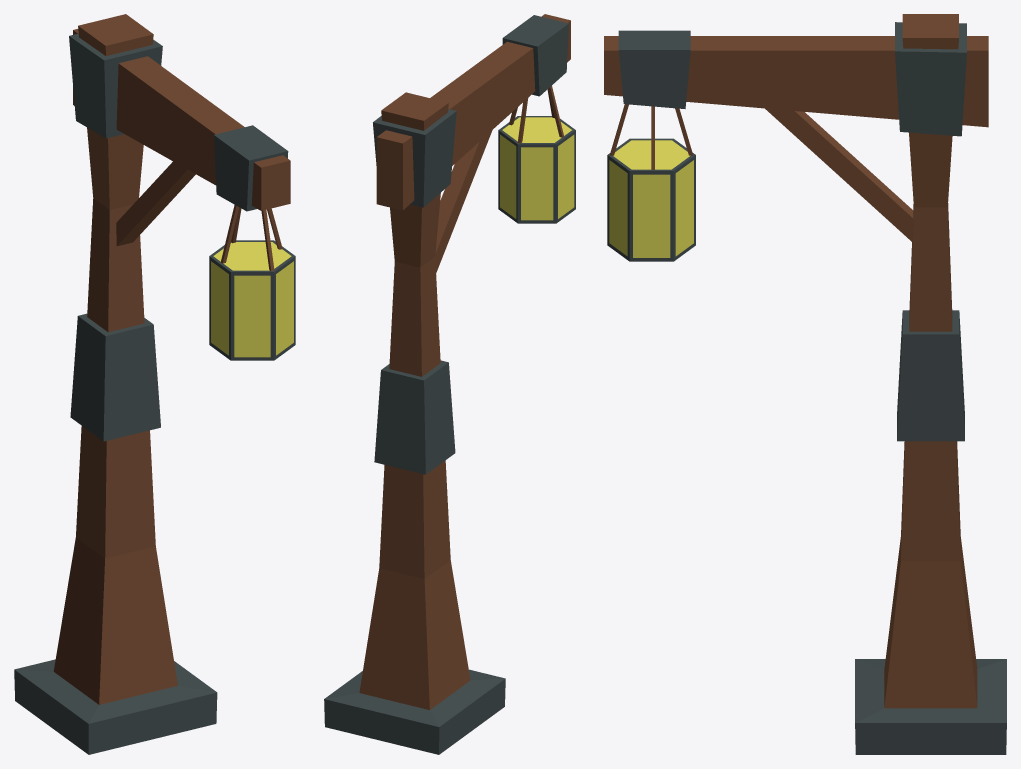
The model's file is Lamp_1_Yellow.fbx.
3 views of the same model, side by side, from view 1: azimuth 30°, elevation 25°; view 2: azimuth 150°, elevation 25°; view 3: azimuth 270°, elevation 25° (orthographic). The views are drawn at different scales.
Visible parts, largest first — view 1: Lamp_1_Yellow; view 2: Lamp_1_Yellow; view 3: Lamp_1_Yellow.
Part boxes in pixels (box(x1,y1,x2,y2)): Lamp_1_Yellow: box(14, 14, 295, 754); Lamp_1_Yellow: box(324, 14, 575, 754); Lamp_1_Yellow: box(604, 14, 1006, 754).
Size of the model in its own units: 39.51 by 200 by 105.
